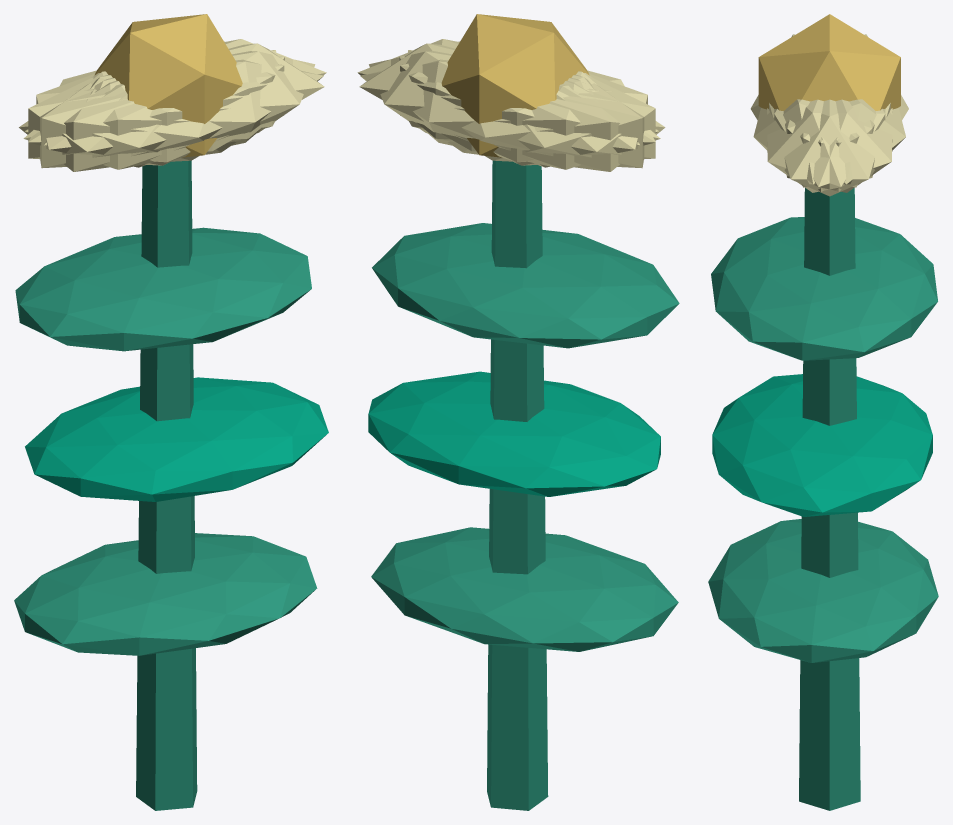
The model's file is syzygium-myrtifolium.glb.
3 views of the same model, side by side, from view 1: azimuth 30°, elevation 25°; view 2: azimuth 150°, elevation 25°; view 3: azimuth 270°, elevation 25° (orthographic).
Visible parts, largest first — view 1: leaf1, leaf2, leaf0, stem, center, petal1, petal6, petal2, petal5, petal7, petal0, petal4 (+2 smaller); view 2: leaf2, leaf0, leaf1, stem, center, petal8, petal3, petal7, petal4, petal2, petal0, petal5 (+2 smaller); view 3: leaf2, leaf1, leaf0, stem, center, petal0, petal5, petal4, petal1, petal8.
Boxes of the visible parts, x1,y1,x2,y2 form: leaf1: (25,377,328,501); leaf2: (15,227,311,351); leaf0: (14,533,317,655); stem: (136,160,197,810); center: (94,14,242,157); petal1: (23,59,323,169); petal6: (19,73,236,171); petal2: (40,50,276,168); petal5: (44,51,315,162); petal7: (28,56,284,165); petal0: (94,43,324,151); petal4: (25,39,326,142); leaf2: (372,223,679,348); leaf0: (371,527,678,651); leaf1: (368,371,660,496); stem: (487,160,548,810); center: (441,14,589,157); petal8: (360,59,660,169); petal3: (448,73,665,171); petal7: (408,50,644,168); petal4: (369,51,640,162); petal2: (399,56,655,165); petal0: (359,43,589,151); petal5: (357,39,659,142); leaf2: (711,217,937,360); leaf1: (712,374,932,516); leaf0: (708,519,938,662); stem: (799,188,860,810); center: (758,14,900,110); petal0: (769,99,890,196); petal5: (767,99,885,192); petal4: (774,99,892,192); petal1: (753,99,874,184); petal8: (785,99,905,184).
Size of the model in its own units: 0.1452 by 0.3638 by 0.0994.
